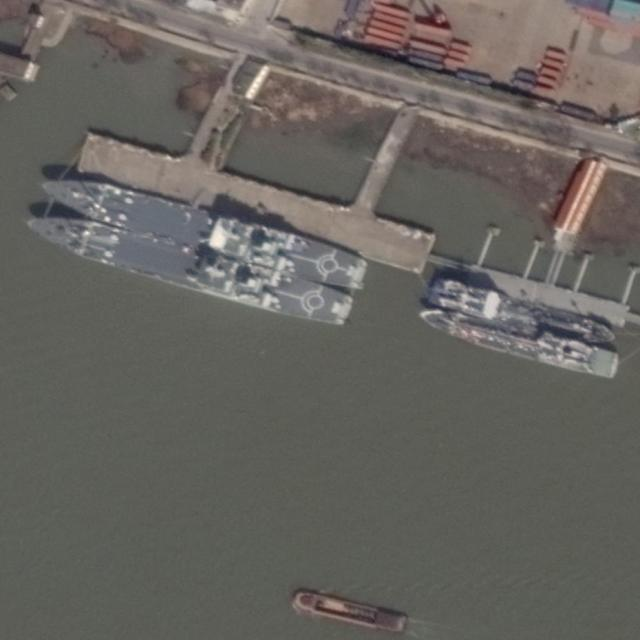Cargo: (290, 588, 408, 633)
Landing: (34, 166, 370, 295), (20, 209, 354, 328)
Other Warship: (416, 301, 621, 381), (426, 276, 620, 350)
